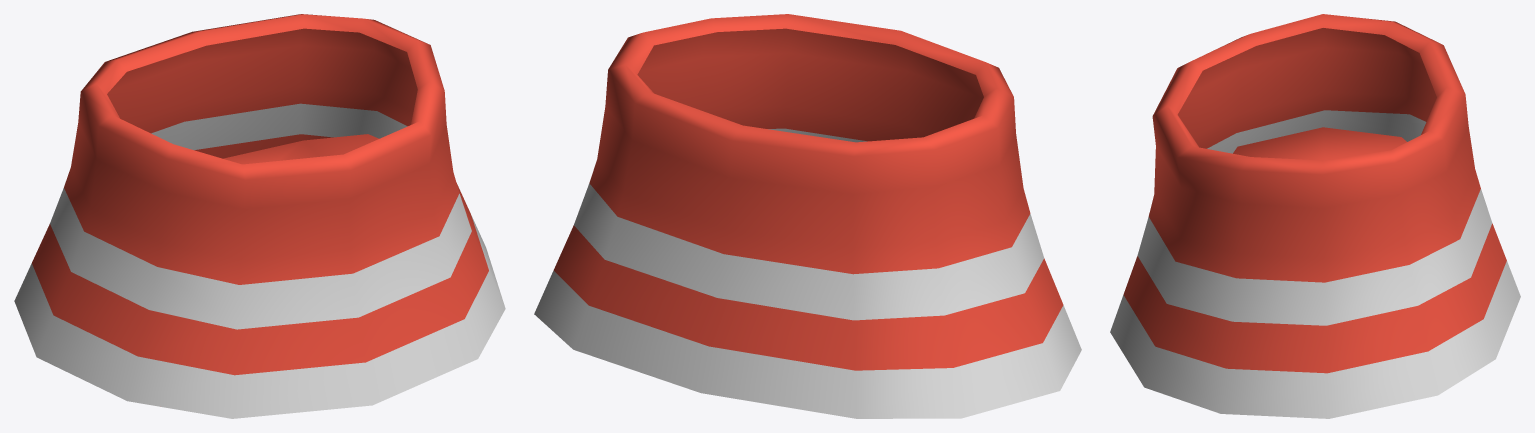
3 renders of one model, left to right at view 1: azimuth 30°, elevation 25°; view 2: azimuth 150°, elevation 25°; view 3: azimuth 270°, elevation 25°, orthographic. The views are drawn at different scales.
Visible parts, largest first — view 1: Bottom_65.002; view 2: Bottom_65.002; view 3: Bottom_65.002.
Part boxes in pixels (x1,y1,x2,y2): Bottom_65.002: (14,14,505,418); Bottom_65.002: (534,14,1081,418); Bottom_65.002: (1110,14,1520,418).
Size of the model in its own units: 36.62 by 19.44 by 29.43.
